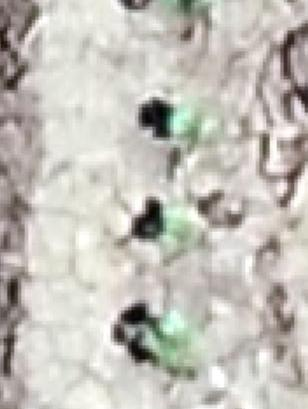cotton: (145, 334, 175, 361), (164, 209, 185, 239), (171, 107, 195, 133), (157, 318, 184, 338)
